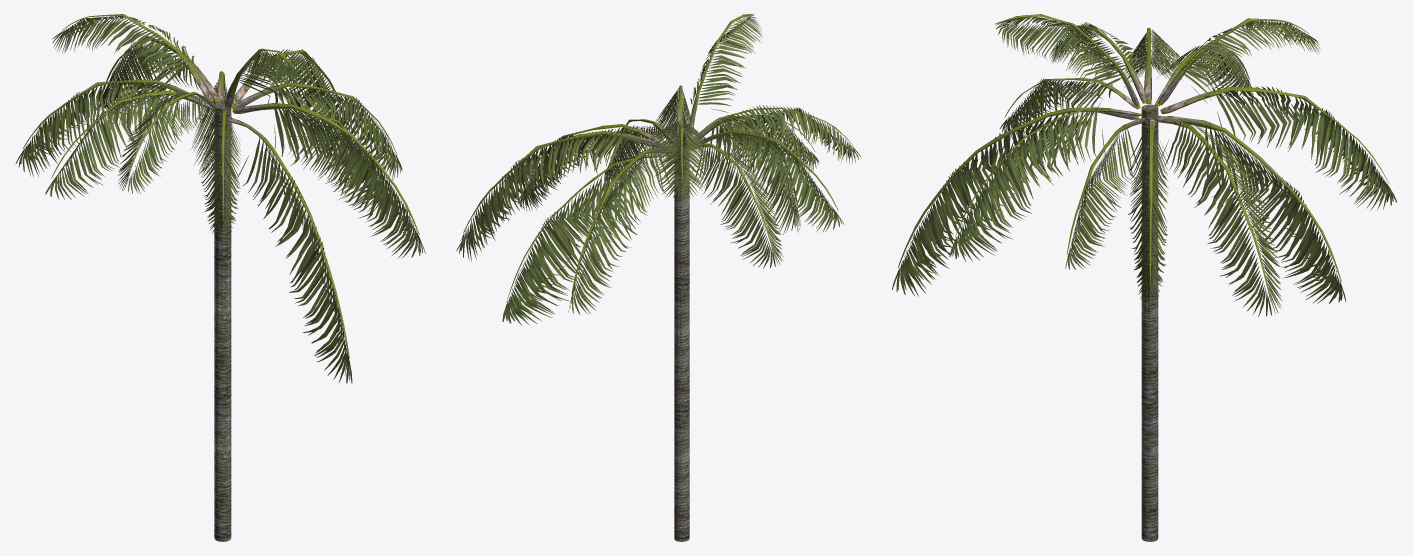
Rendered from Ruffle_Palm_Model_0.obj.
3 views of the same model, side by side, from view 1: azimuth 30°, elevation 25°; view 2: azimuth 150°, elevation 25°; view 3: azimuth 270°, elevation 25° (orthographic). The views are drawn at different scales.
Parts seen in each view (by area): view 1: Foliage, Bark; view 2: Foliage, Bark; view 3: Foliage, Bark.
Part boxes in pixels (x1,y1,x2,y2): Foliage: [15, 14, 425, 383]; Bark: [214, 101, 231, 541]; Foliage: [456, 14, 860, 325]; Bark: [674, 141, 689, 541]; Foliage: [891, 14, 1396, 316]; Bark: [1141, 104, 1158, 541].
Size of the model in its own units: 4.71 by 6.5 by 5.72.
Materials: 2 (2 with a texture image).
